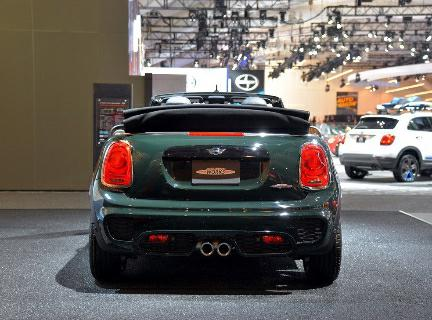MINI-JCW: (80, 99, 344, 289)
